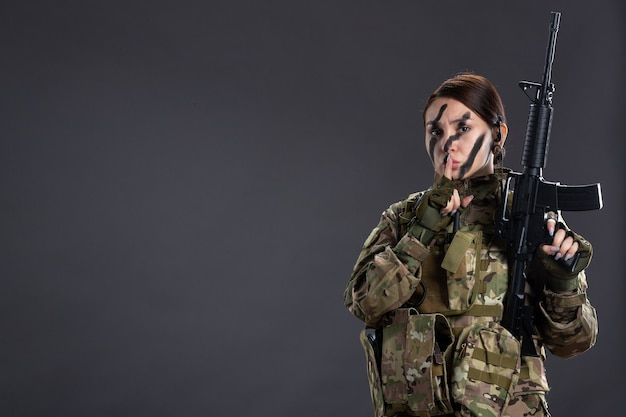gun: (501, 13, 604, 334)
